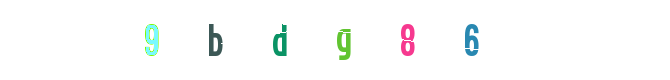6: (377, 0, 457, 80)
8: (367, 0, 447, 80)
9: (163, 0, 243, 80)
B: (206, 0, 286, 80)
D: (261, 0, 341, 80)
G: (295, 0, 375, 80)
